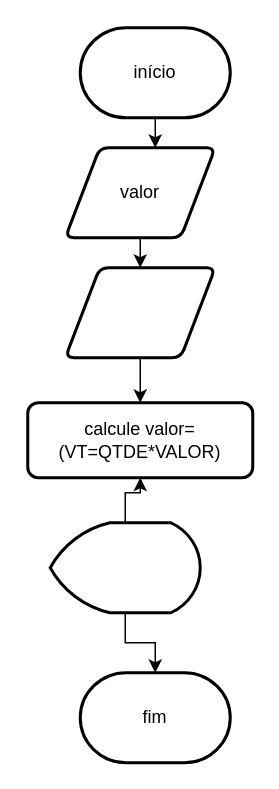
Image size: 279x789. Some labels were removed from this diagram. The shapes that lost their labels are listed below. From the top down, each one's centre as x and y in pixels, then its label:
point 139,312: QTDE
point 124,567: VT
